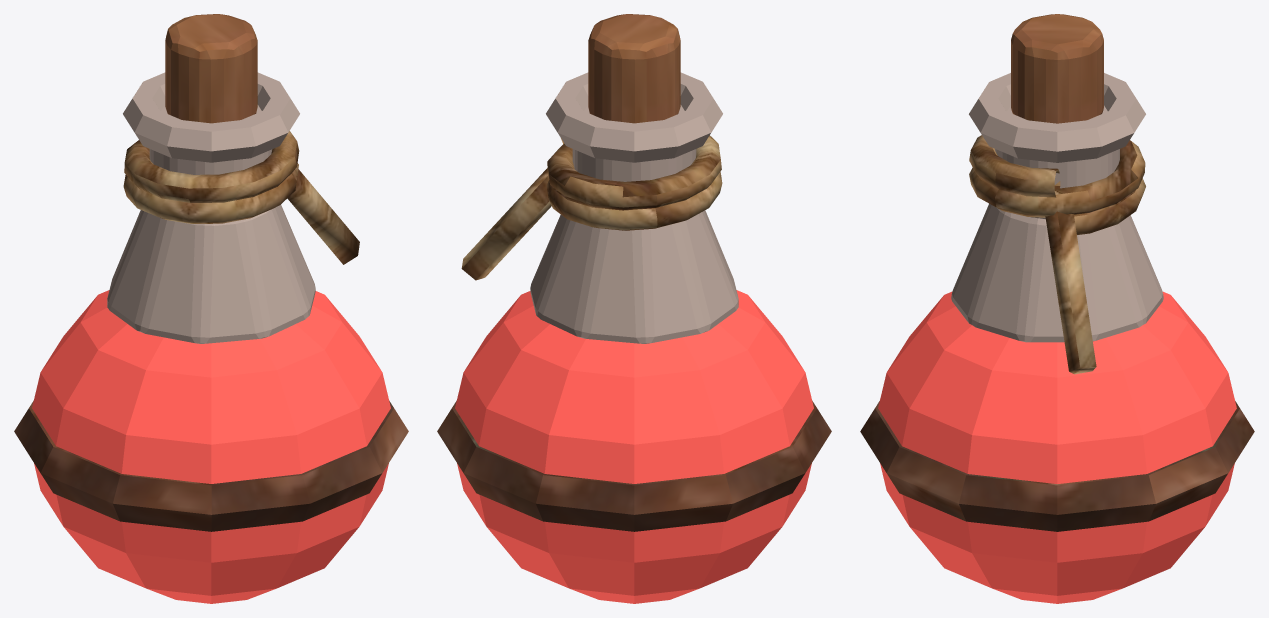
The model's file is brew_flask.glb.
3 renders of one model, left to right at view 1: azimuth 30°, elevation 25°; view 2: azimuth 150°, elevation 25°; view 3: azimuth 270°, elevation 25°, orthographic.
Visible parts, largest first — view 1: model; view 2: model; view 3: model.
Part boxes in pixels (x1,y1,x2,y2): model: (14,14,408,603); model: (437,14,831,603); model: (860,14,1254,603).
Size of the model in its own units: 0.16 by 0.249 by 0.16.
5 materials, 3 textured.
